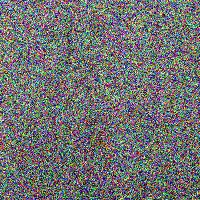inclusion: (52, 114, 78, 177), (58, 13, 80, 84), (111, 1, 132, 63), (83, 111, 102, 142)
